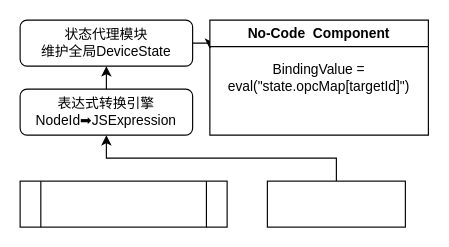
Some shapes in this 449 by 247 pixel diagram are drawn without their labels. Each missing label, with the centre of its shape:
OPC UA地址空间: [335,203]
{nodeId:"ns=1;s=Speed", value:250}: [123,203]
